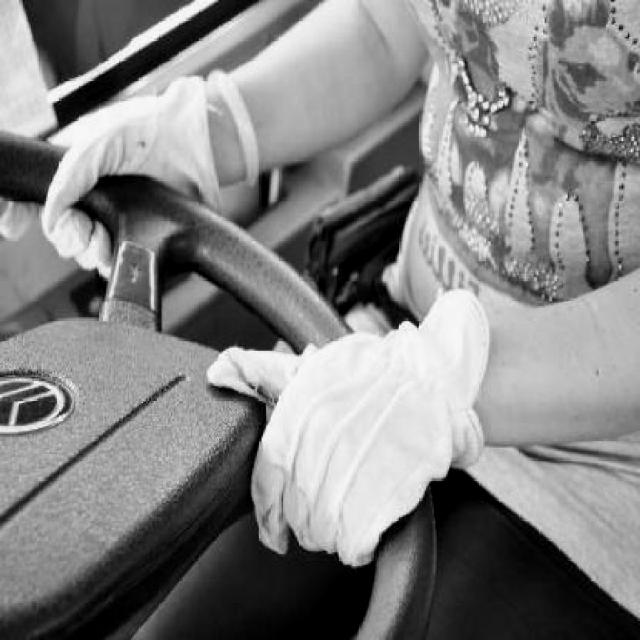hand_glove: (207, 331, 455, 563), (1, 82, 208, 278)
